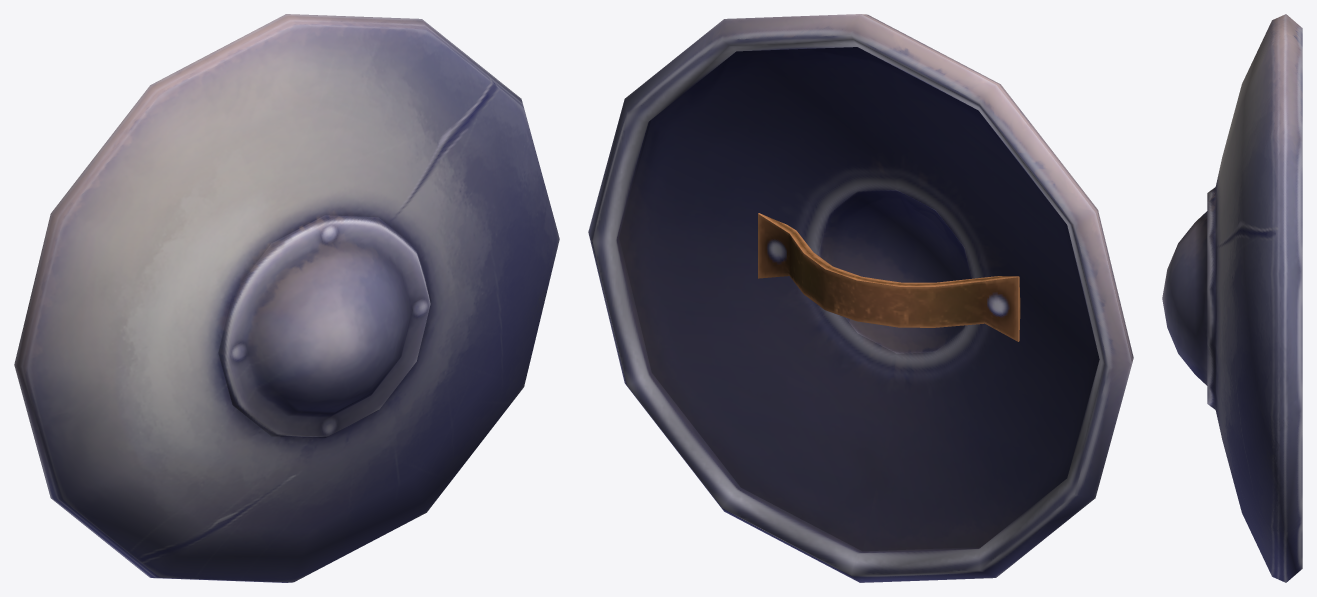
The model's file is 062_a_buckler.fbx.
3 views of the same model, side by side, from view 1: azimuth 30°, elevation 25°; view 2: azimuth 150°, elevation 25°; view 3: azimuth 270°, elevation 25° (orthographic). The views are drawn at different scales.
Parts seen in each view (by area): view 1: 062_a_buckler; view 2: 062_a_buckler; view 3: 062_a_buckler.
Part boxes in pixels (<box>): 062_a_buckler: <box>14,14,559,582</box>; 062_a_buckler: <box>588,14,1133,582</box>; 062_a_buckler: <box>1162,14,1302,582</box>.
Bounding box in the file's own units: 30.86 × 30.86 × 7.59.
